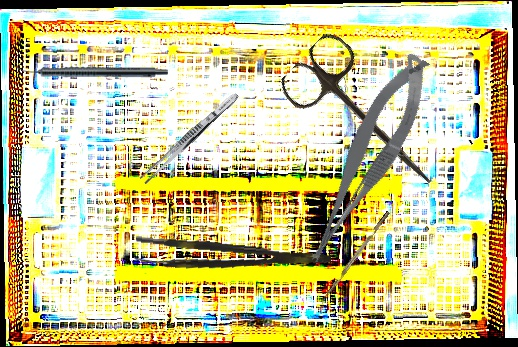Chopper: (317, 210, 394, 310)
Dressing Forceps: (139, 89, 241, 187)
Handpiece: (14, 64, 168, 78)
Iris Scissors: (274, 27, 461, 210)
Micro Scissor: (281, 48, 451, 269)
Tissue Forceps: (133, 235, 332, 281)
